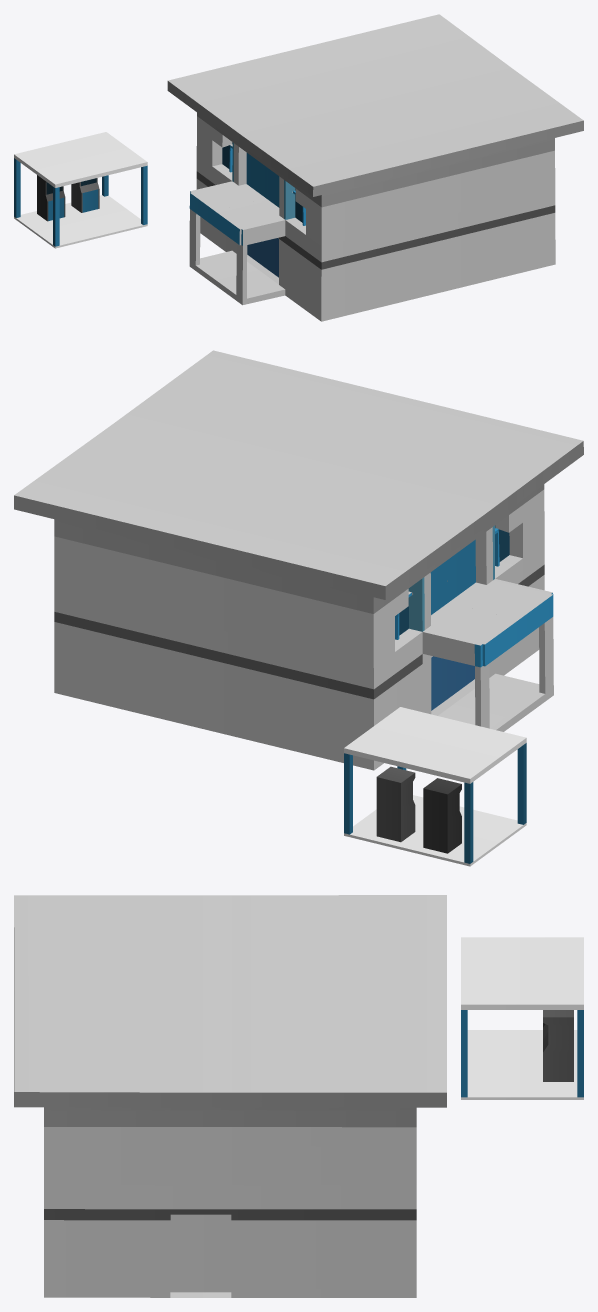
File: bank.fbx
3 views of the same model, one above another, from view 1: azimuth 30°, elevation 25°; view 2: azimuth 150°, elevation 25°; view 3: azimuth 270°, elevation 25° (orthographic). The views are drawn at different scales.
Parts seen in each view (by area): view 1: Cube.175, Cube.140, Cube.155, Cube.141; view 2: Cube.175, Cube.140, Cube.155, Cube.141; view 3: Cube.175, Cube.140, Cube.155.
Boxes of the visible parts, x1,y1,x2,y2 form: Cube.175: (167, 14, 583, 321); Cube.140: (14, 132, 147, 248); Cube.155: (71, 178, 99, 212); Cube.141: (37, 175, 65, 221); Cube.175: (14, 350, 583, 770); Cube.140: (344, 707, 526, 866); Cube.155: (376, 766, 415, 842); Cube.141: (423, 778, 461, 853); Cube.175: (14, 895, 446, 1297); Cube.140: (461, 937, 583, 1099); Cube.155: (543, 1010, 573, 1081).
Bounding box in the file's own units: 5993 × 2221 × 5228.
